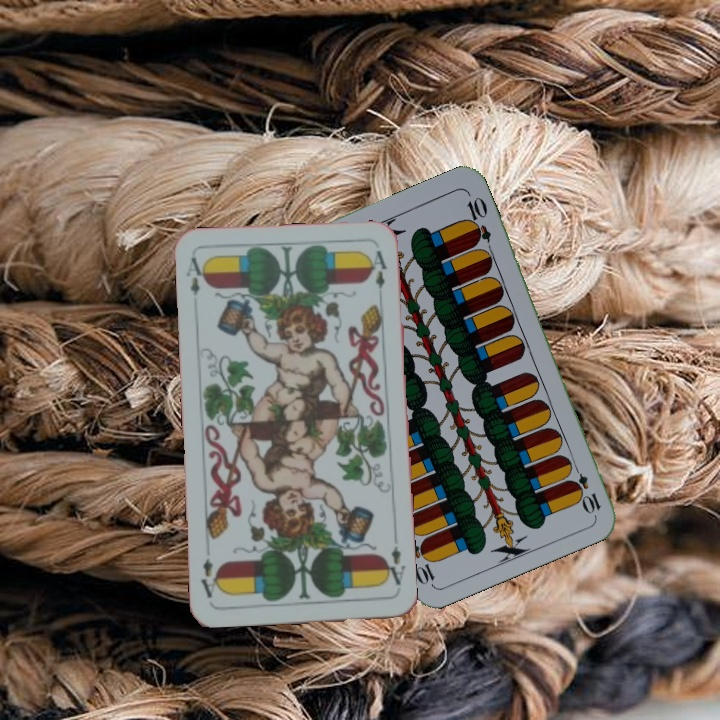E10: (567, 459, 604, 516)
EA: (182, 253, 210, 312), (380, 542, 408, 587)
